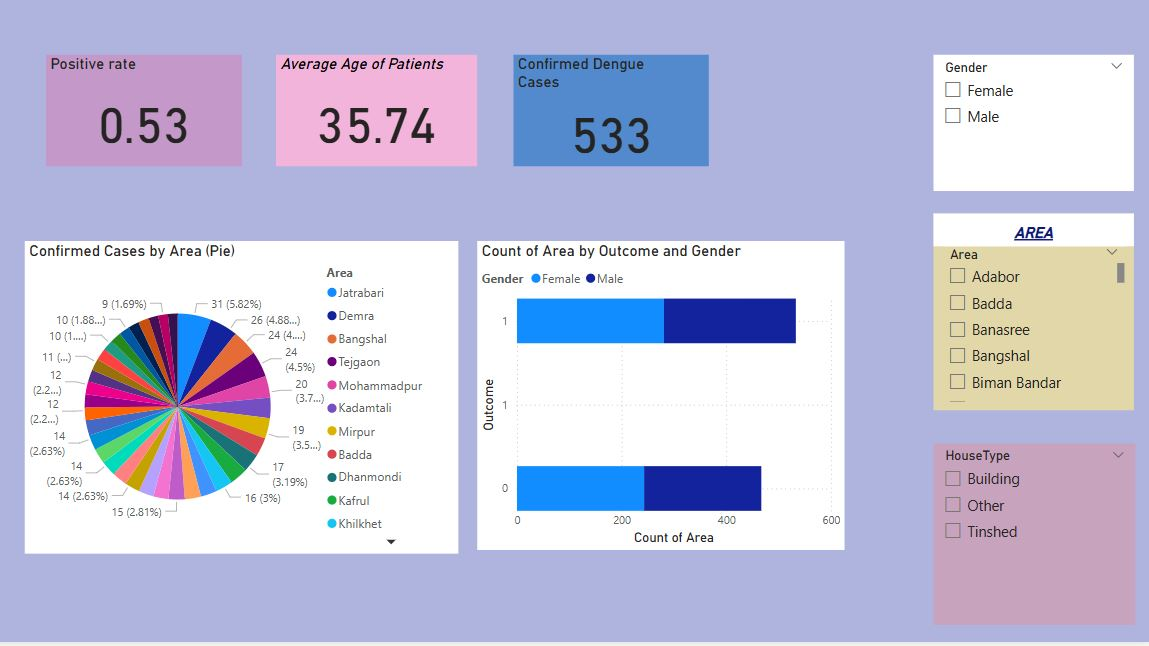

Layout of this report page (visuals, bound fields, positions):
{"tool":"powerbi","page":{"name":"Page 1","canvas":[1280,720],"ordinal":0},"visuals":[{"type":"pieChart","title":"Confirmed Cases by Area (Pie)","fields":{"Category":["data.Area"],"Y":["Sum(data.Outcome)"]},"box":[42.5,279.9,476.2,343.1],"z":0},{"type":"slicer","fields":{"Values":["data.Gender"]},"box":[1040.2,75.8,219.9,149.7],"z":1000},{"type":"slicer","title":"AREA","fields":{"Values":["data.Area"]},"box":[1040.2,249.4,219.9,216],"z":2000},{"type":"slicer","fields":{"Values":["data.HouseType"]},"box":[1040.2,502.5,221.7,199.5],"z":3000},{"type":"card","title":"Positive rate","fields":{"Values":["data.PositiveRate"]},"box":[65.9,75.5,215.4,122.1],"z":4000},{"type":"card","title":"Average Age of Patients","fields":{"Values":["data.AvgAgeInfected"]},"box":[318.4,75.5,220.9,122.1],"z":5000},{"type":"card","title":"Confirmed Dengue Cases","fields":{"Values":["data.TotalDengueCases"]},"box":[579.1,75.5,214.1,122.1],"z":6000},{"type":"barChart","fields":{"Series":["data.Gender"],"Category":["data.Outcome"],"Y":["CountNonNull(data.Area)"]},"box":[539.3,279.9,403.4,338.9],"z":7000}]}

Visuals, with their boxes in screenshot pixels (x1, y1, x2, y2), scaled from the page's 1280x720 canvas onto the 1149x646 screenshot:
"Confirmed Cases by Area (Pie)" pieChart: (left=38, top=251, right=466, bottom=559)
slicer - data.Gender: (left=934, top=68, right=1131, bottom=202)
"AREA" slicer: (left=934, top=224, right=1131, bottom=418)
slicer - data.HouseType: (left=934, top=451, right=1133, bottom=630)
"Positive rate" card: (left=59, top=68, right=253, bottom=177)
"Average Age of Patients" card: (left=286, top=68, right=484, bottom=177)
"Confirmed Dengue Cases" card: (left=520, top=68, right=712, bottom=177)
barChart - data.Gender x data.Outcome: (left=484, top=251, right=846, bottom=555)
